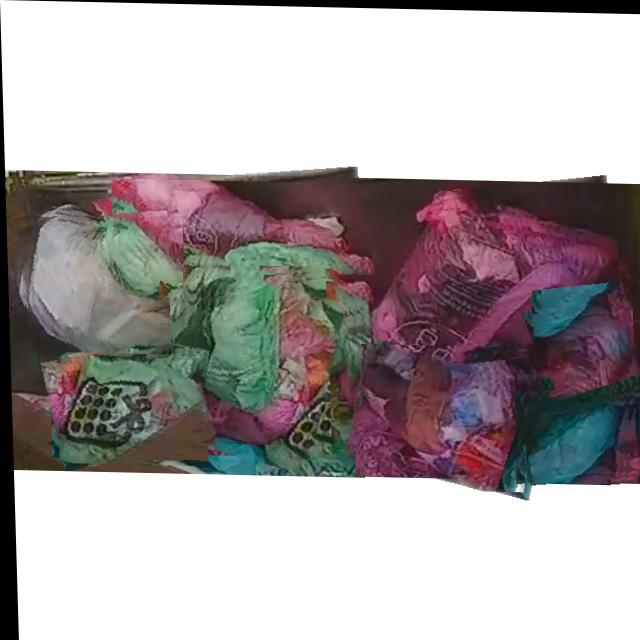general_trashbag: (56, 359, 202, 464), (106, 219, 181, 296)
other_trashbag: (357, 189, 616, 423), (147, 291, 335, 443), (359, 344, 527, 489), (111, 179, 363, 274), (23, 216, 168, 352), (533, 291, 630, 415), (522, 381, 627, 482)
